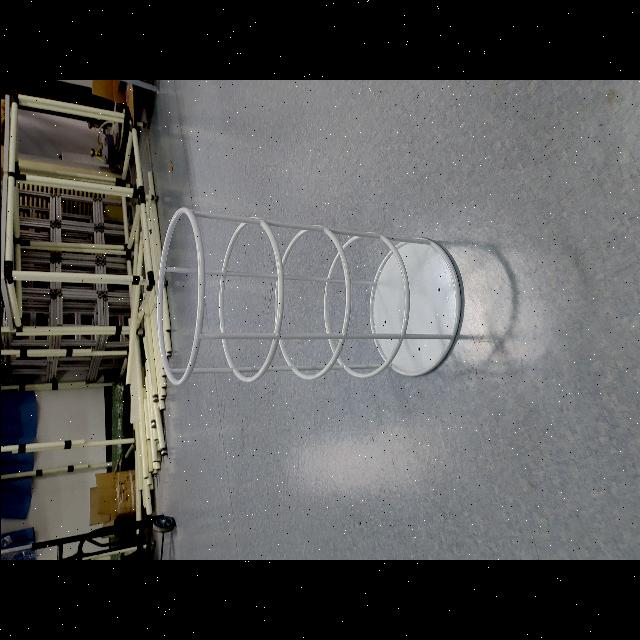S: (155, 206, 465, 390)
